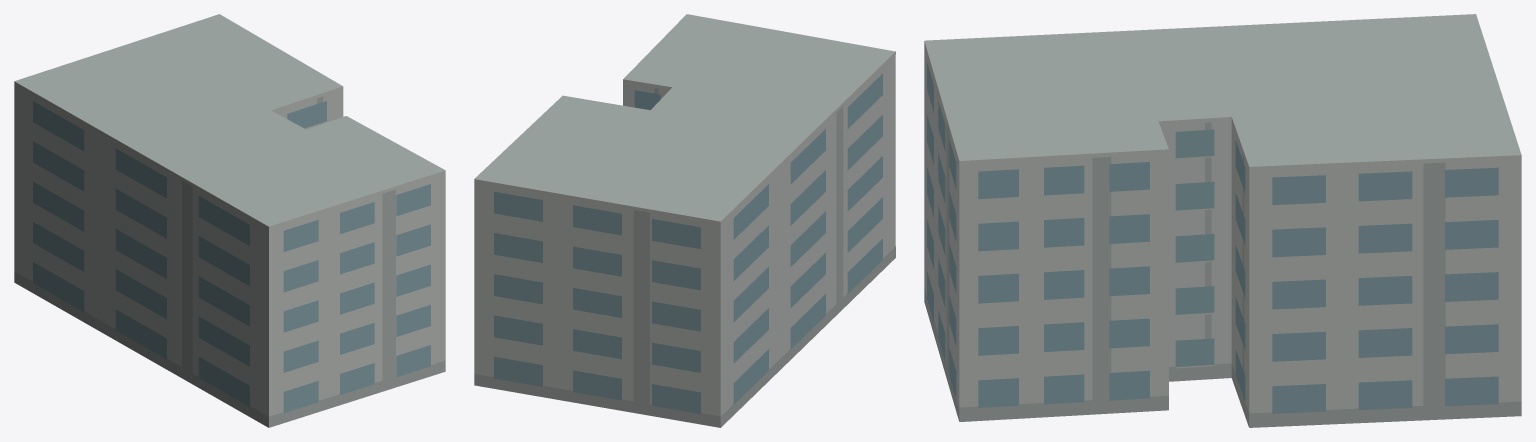
Rendered from survey-upis-32807604.glb.
3 views of the same model, side by side, from view 1: azimuth 30°, elevation 25°; view 2: azimuth 150°, elevation 25°; view 3: azimuth 270°, elevation 25° (orthographic). The views are drawn at different scales.
Parts seen in each view (by area): view 1: survey-upis-32807604.tmp; view 2: survey-upis-32807604.tmp; view 3: survey-upis-32807604.tmp.
Part boxes in pixels (x1,y1,x2,y2): survey-upis-32807604.tmp: (14, 14, 445, 427); survey-upis-32807604.tmp: (474, 14, 895, 427); survey-upis-32807604.tmp: (924, 14, 1521, 427).
Bounding box in the file's own units: 19.17 × 15.25 × 31.64.
